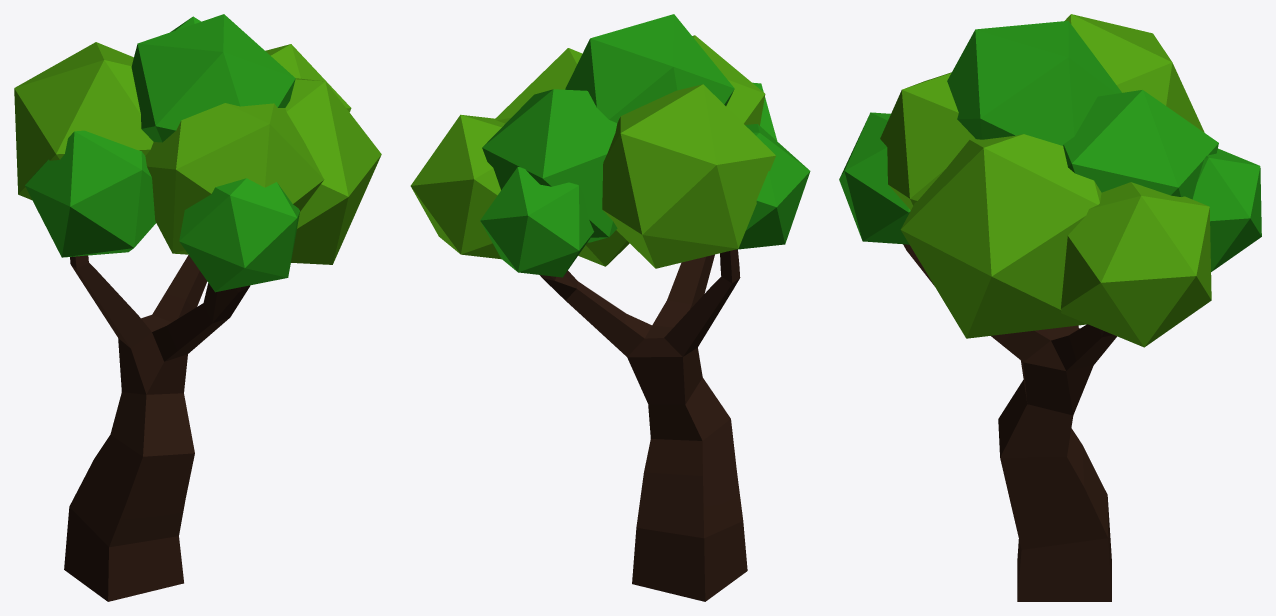
Rendered from tree2.obj.
3 renders of one model, left to right at view 1: azimuth 30°, elevation 25°; view 2: azimuth 150°, elevation 25°; view 3: azimuth 270°, elevation 25°, orthographic. The views are drawn at different scales.
Parts seen in each view (by area): view 1: Tree_2; view 2: Tree_2; view 3: Tree_2.
Part boxes in pixels (bbox=[...]): Tree_2: bbox=[14, 14, 381, 601]; Tree_2: bbox=[410, 14, 810, 601]; Tree_2: bbox=[839, 14, 1261, 601].
Size of the model in its own units: 2.33 by 3.55 by 2.34.
